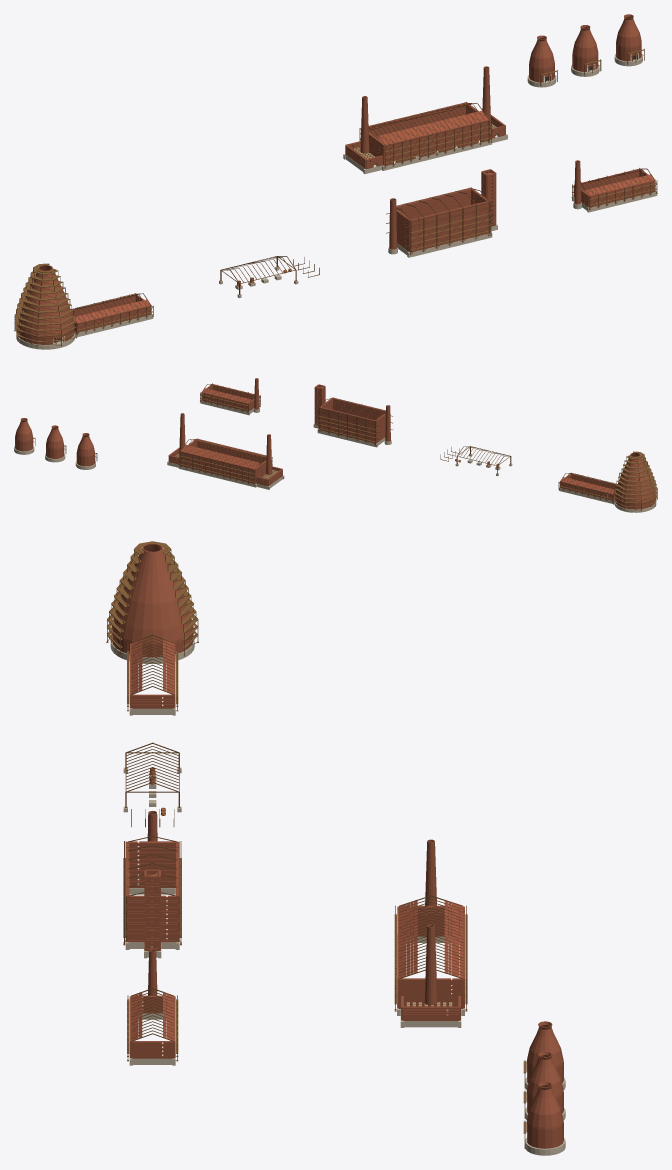
The picture shows the model from 3 angles, top to bottom: view 1: azimuth 30°, elevation 25°; view 2: azimuth 150°, elevation 25°; view 3: azimuth 270°, elevation 25°; orthographic projection. The views are drawn at different scales.
Parts seen in each view (by area): view 1: chem_K3; view 2: chem_K3; view 3: chem_K3.
Boxes of the visible parts, x1,y1,x2,y2 form: chem_K3: (14, 14, 657, 349); chem_K3: (14, 378, 657, 512); chem_K3: (106, 541, 565, 1155).
Bounding box in the file's own units: 351 × 30.4 × 129.
